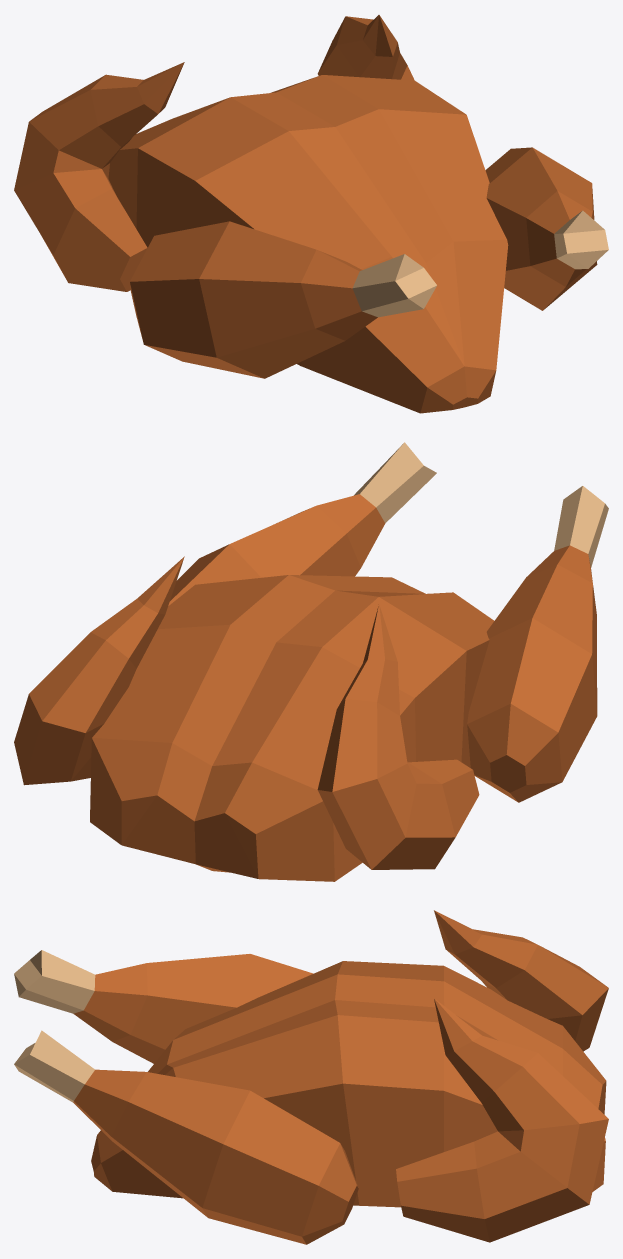
File: Chicken.fbx
3 renders of one model, top to bottom at view 1: azimuth 30°, elevation 25°; view 2: azimuth 150°, elevation 25°; view 3: azimuth 270°, elevation 25°, orthographic. The views are drawn at different scales.
Parts seen in each view (by area): view 1: Chicken; view 2: Chicken; view 3: Chicken.
Part boxes in pixels (x1,y1,x2,y2): Chicken: (14, 15, 608, 413); Chicken: (14, 442, 608, 881); Chicken: (14, 910, 608, 1244).
Bounding box in the file's own units: 6.5 × 3.57 × 8.44.
Materials: 1 (1 with a texture image).
